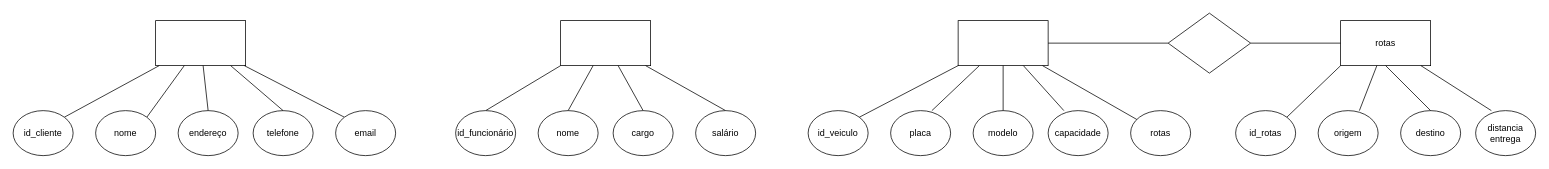
Image size: 1549x169. Some labels were removed from this diagram. The shapes that lost their labels are listed below. From the top down, each one's centre as x and y in pixels, then its label:
the point at 200,43: cliente
the point at 605,43: funcionário
the point at 1002,43: veiculo
the point at 1209,42: possui
